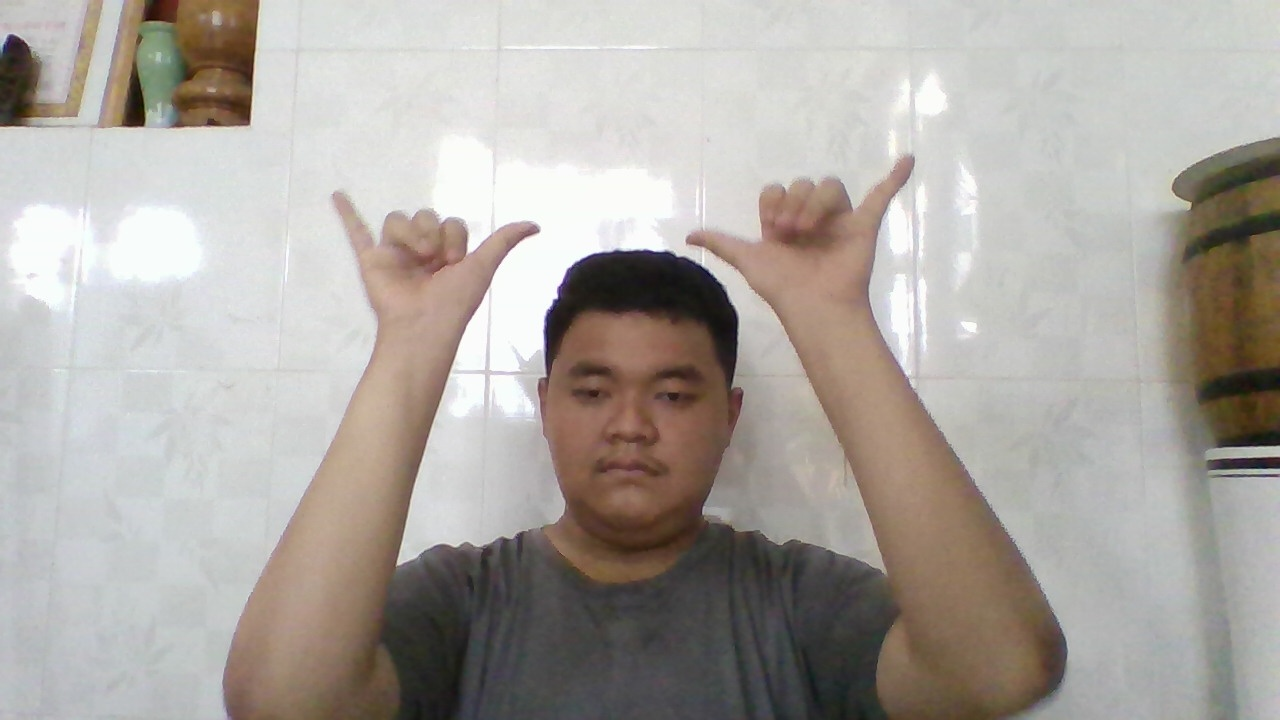Y: (673, 144, 922, 317), (323, 182, 542, 338)
